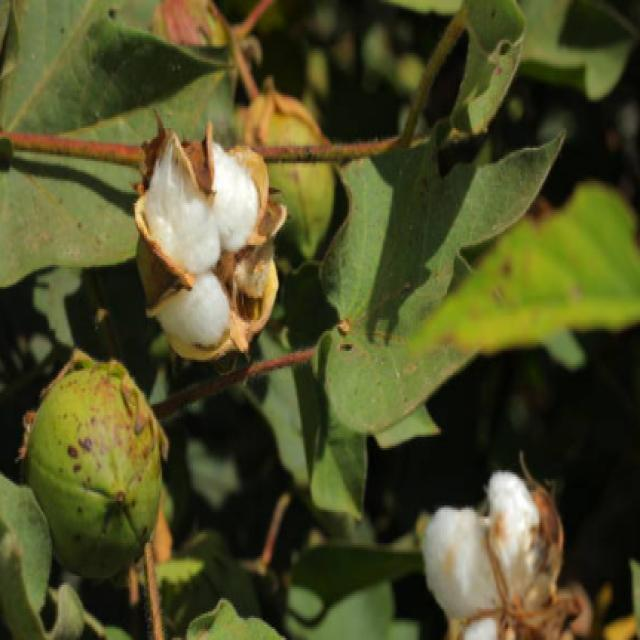Early Boll: (15, 350, 166, 581), (251, 88, 348, 260)
Matured Cotton Boll: (129, 120, 284, 366), (406, 461, 586, 640)
